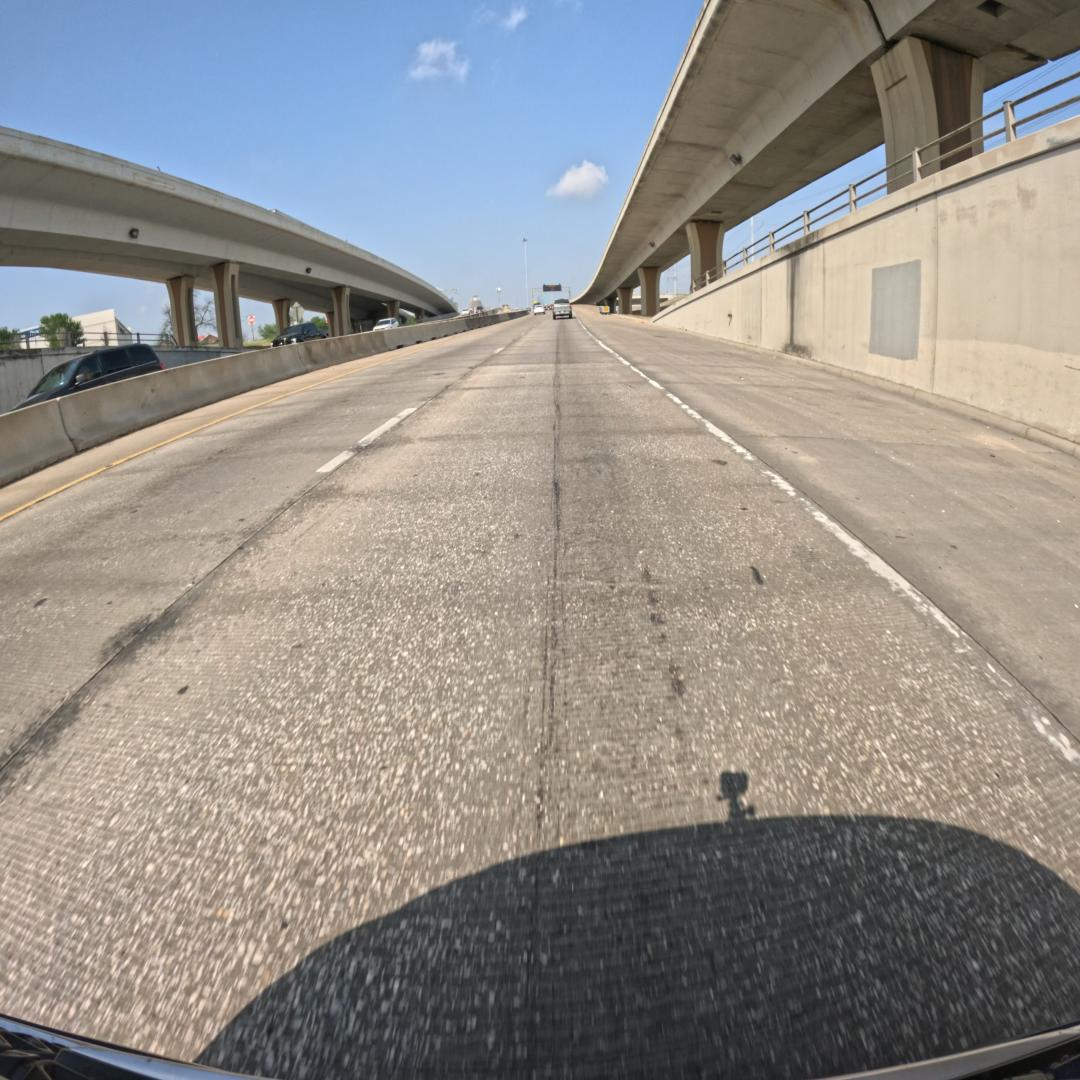lane0: (0, 320, 1080, 1077)
lane1: (0, 320, 532, 765)
